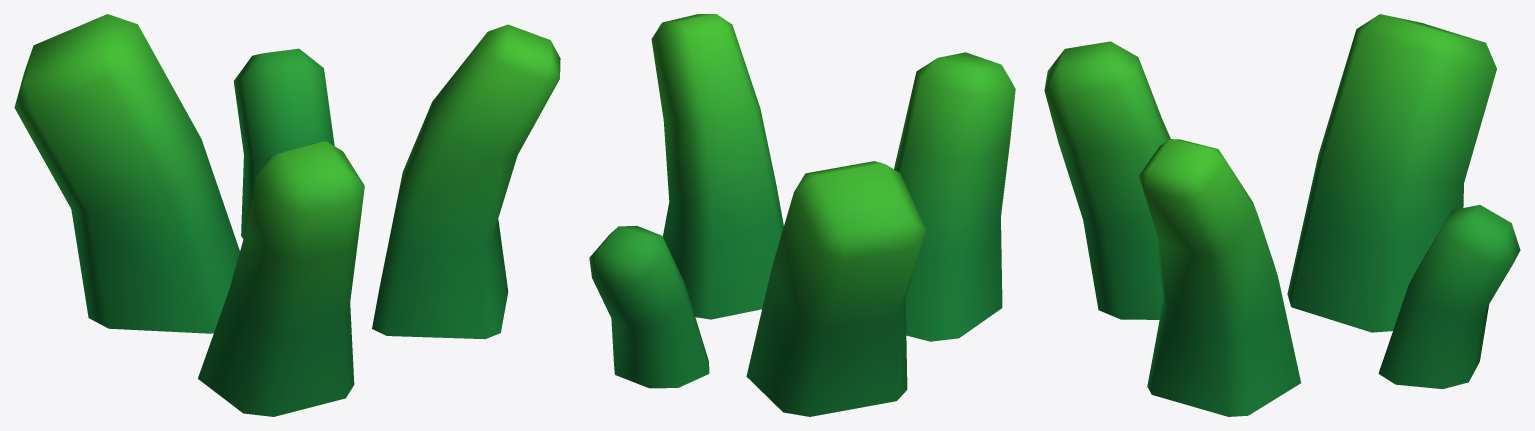
The model's file is Grass_1_1.glb.
3 renders of one model, left to right at view 1: azimuth 30°, elevation 25°; view 2: azimuth 150°, elevation 25°; view 3: azimuth 270°, elevation 25°, orthographic. The views are drawn at different scales.
Visible parts, largest first — view 1: Grass_1_1; view 2: Grass_1_1; view 3: Grass_1_1.
Boxes of the visible parts, x1,y1,x2,y2 form: Grass_1_1: (14,14,560,416); Grass_1_1: (589,14,1015,416); Grass_1_1: (1044,14,1520,416).
Bounding box in the file's own units: 0.2258 × 0.1437 × 0.2355.
1 material, 1 textured.
